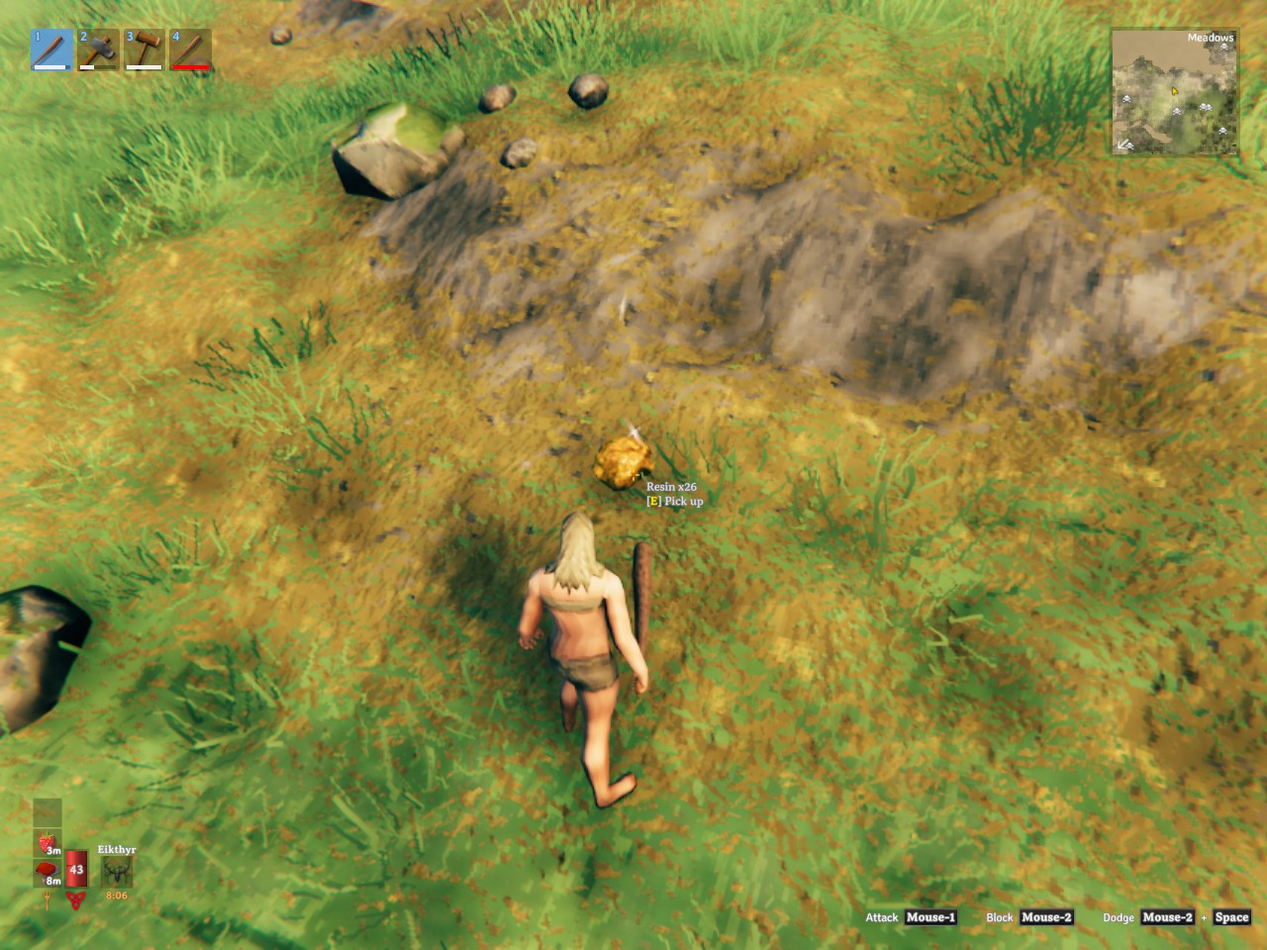Club: (634, 541, 652, 653)
Food Indicator: (36, 829, 63, 891)
Health Bar: (63, 845, 90, 891)
Hotbar: (25, 21, 398, 78)
Resin: (595, 435, 652, 489)
